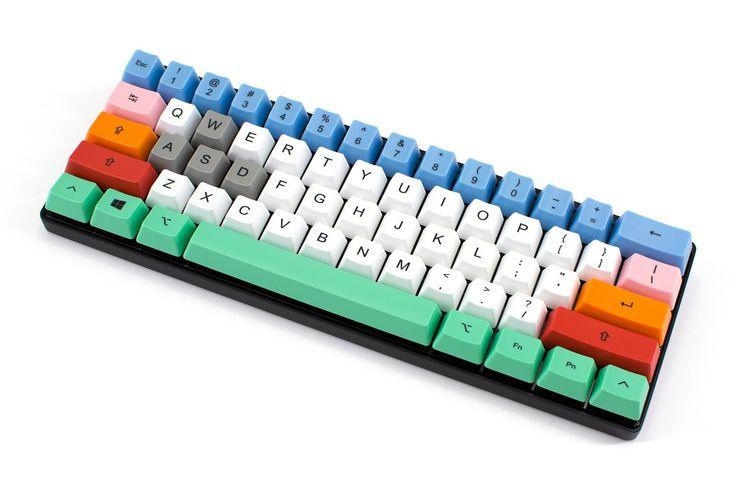keyboard: (39, 48, 696, 441)
